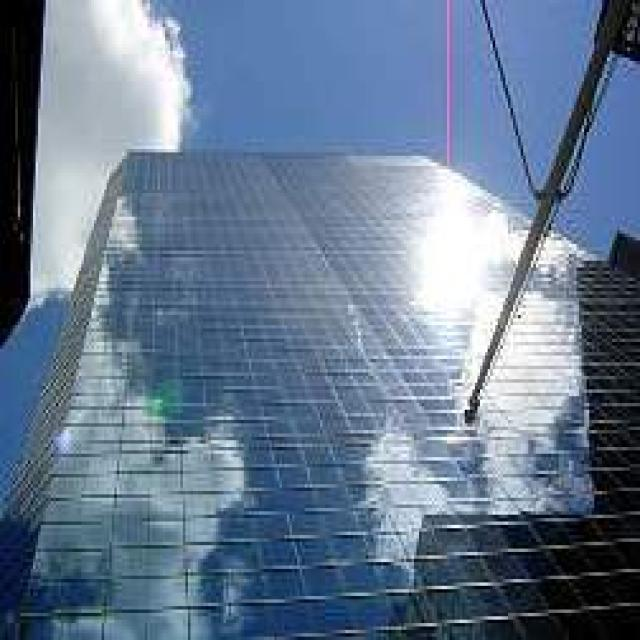building: (2, 151, 640, 640)
